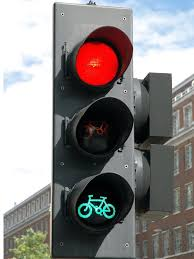red: (63, 22, 136, 200)
